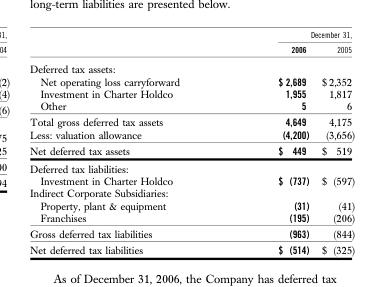table: (29, 29, 354, 256)
table column: (29, 29, 228, 256), (228, 29, 314, 256), (314, 29, 354, 256)
table column header: (29, 29, 354, 58)
table projected row header: (29, 58, 354, 74), (29, 159, 354, 174), (29, 186, 354, 199)
table row: (29, 41, 354, 58), (29, 142, 354, 159), (29, 58, 354, 74), (29, 225, 354, 241), (29, 127, 354, 142), (29, 159, 354, 174), (29, 241, 354, 256), (29, 99, 354, 113), (29, 113, 354, 127), (29, 211, 354, 225), (29, 74, 354, 87), (29, 186, 354, 199), (29, 29, 354, 41), (29, 87, 354, 99), (29, 174, 354, 186), (29, 199, 354, 211)
table spanning cell: (228, 29, 354, 41)
